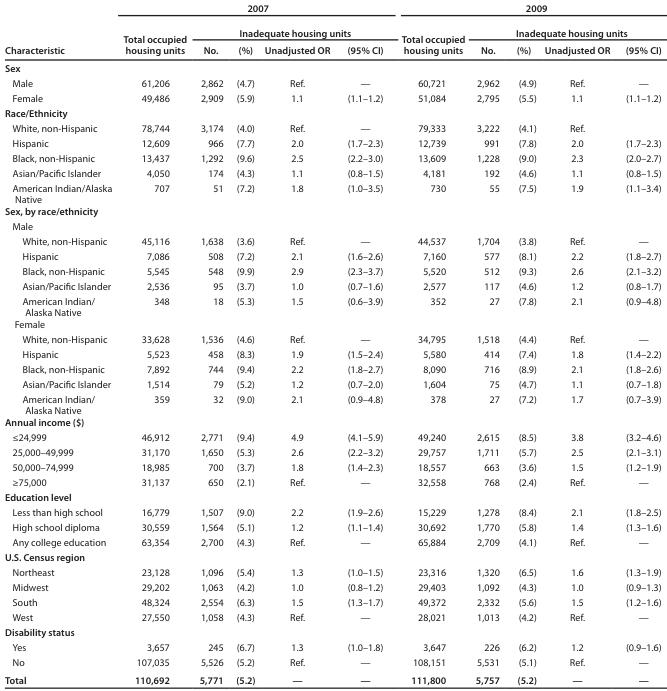table: (3, 3, 660, 684)
table column: (3, 3, 116, 684), (259, 3, 337, 684), (391, 3, 469, 684), (539, 3, 617, 684), (116, 3, 192, 684), (337, 3, 391, 684), (617, 3, 660, 684), (469, 3, 507, 684), (192, 3, 228, 684), (507, 3, 539, 684), (228, 3, 259, 684)
table column header: (3, 3, 660, 59)
table projected row header: (3, 59, 660, 75), (3, 105, 660, 120), (3, 218, 660, 233), (3, 489, 660, 504), (3, 549, 660, 564), (3, 624, 660, 639), (3, 205, 660, 218), (3, 318, 660, 331), (3, 416, 660, 429)
table row: (3, 180, 660, 205), (3, 293, 660, 318), (3, 391, 660, 416), (3, 20, 660, 41), (3, 41, 660, 59), (3, 3, 660, 20), (3, 59, 660, 75), (3, 654, 660, 670), (3, 75, 660, 90), (3, 90, 660, 105), (3, 105, 660, 120), (3, 120, 660, 135), (3, 135, 660, 150), (3, 150, 660, 165), (3, 165, 660, 180), (3, 218, 660, 233), (3, 233, 660, 248), (3, 248, 660, 263), (3, 263, 660, 278), (3, 278, 660, 293), (3, 331, 660, 346), (3, 346, 660, 361), (3, 361, 660, 376), (3, 376, 660, 391), (3, 429, 660, 444), (3, 444, 660, 459), (3, 459, 660, 474), (3, 474, 660, 489), (3, 489, 660, 504), (3, 504, 660, 519), (3, 519, 660, 534), (3, 534, 660, 549), (3, 549, 660, 564), (3, 564, 660, 579), (3, 579, 660, 594), (3, 594, 660, 609), (3, 609, 660, 624), (3, 624, 660, 639), (3, 639, 660, 654), (3, 670, 660, 684), (3, 205, 660, 218), (3, 318, 660, 331), (3, 416, 660, 429)
table spanning cell: (3, 3, 116, 59), (116, 3, 391, 20), (391, 3, 660, 20), (192, 20, 391, 41), (469, 20, 660, 41), (391, 20, 469, 59), (116, 20, 192, 59)
